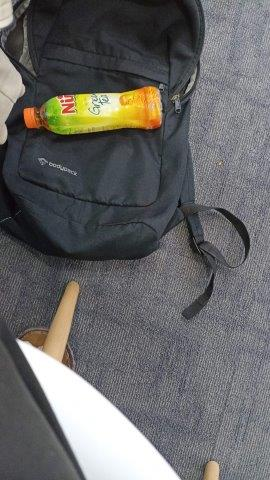botolplastik: (24, 86, 163, 134)
